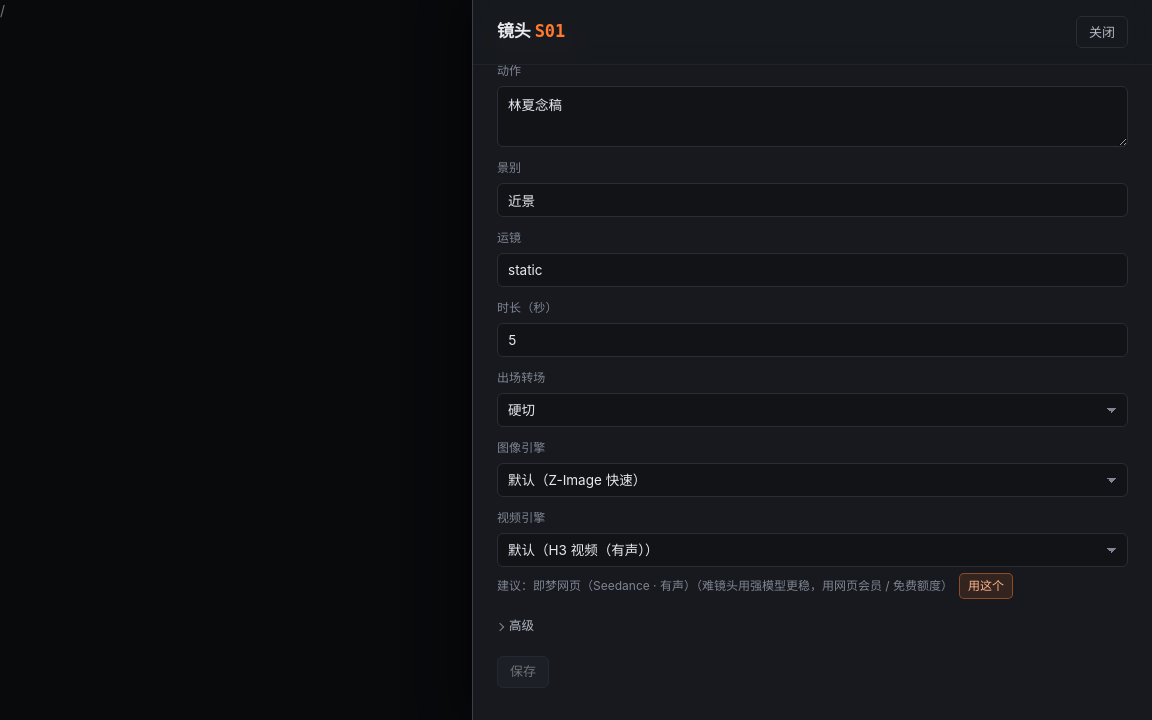
Test: ShotDrawer 引擎建议 › 显示「建议：…」，点「用这个」只改草稿里的视频引擎，不保存
(page scrolled)
Expected: the element with test id "engine-advice" shows "建议：即梦网页", [497,573,1013,599]
Expected: the element with test id "engine-advice" shows "难镜头用强模型更稳", [702,578,941,593]
Click the button "用这个": (986, 586) [959,573,1013,599]
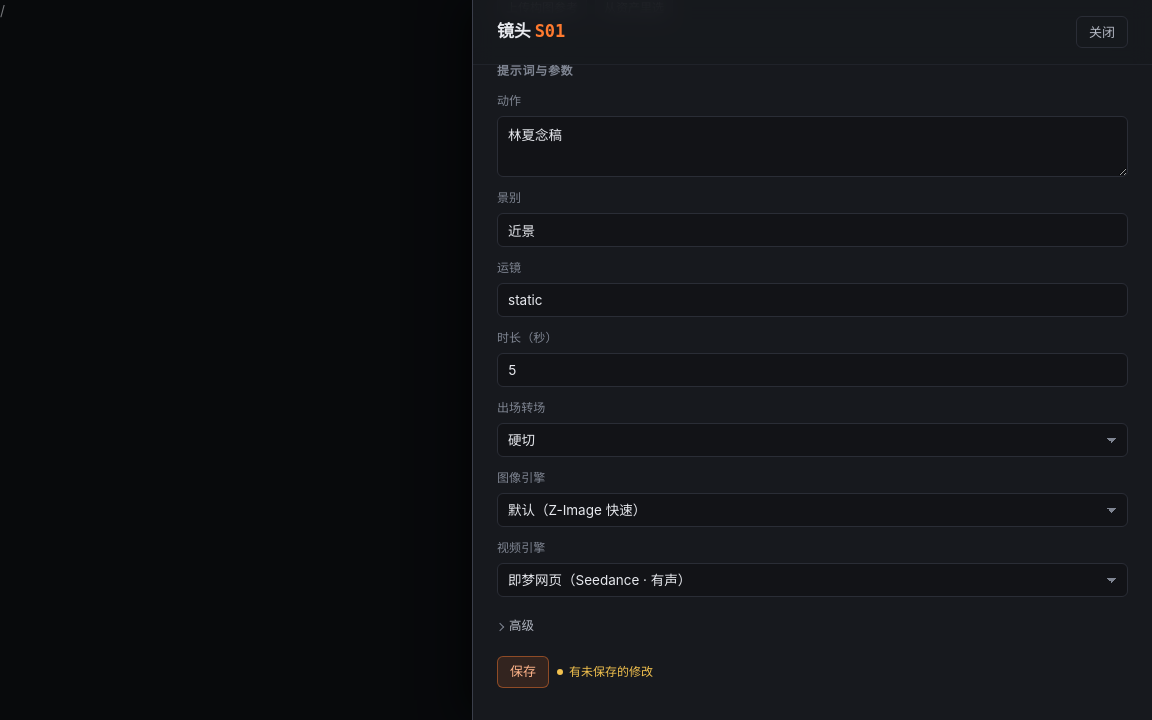
Expected: the dropdown named "video_engine" shows "即梦网页（Seedance · 有声）", [497,563,1128,597]
Expected: the text "有未保存的修改" is shown, [557,663,653,681]
Expected: the element with test id "engine-advice" is gone
